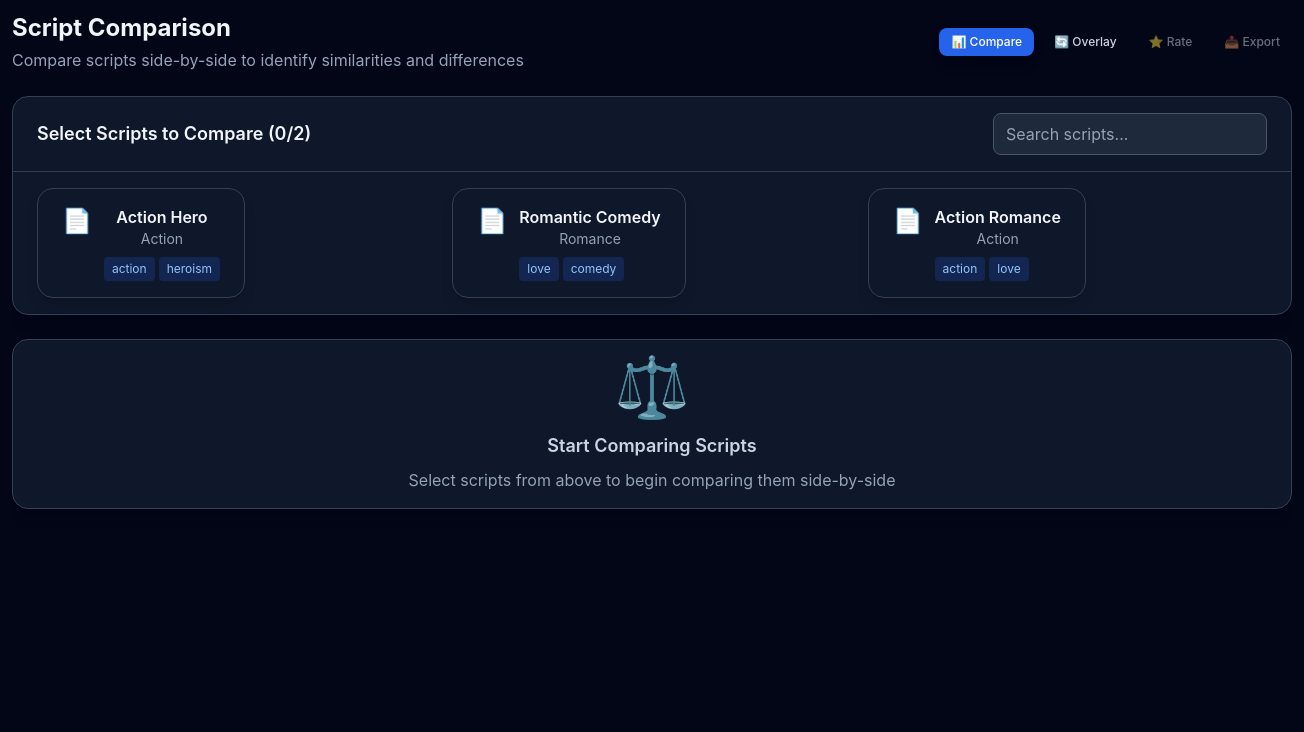
Scenario: ScriptComparison › filters scripts based on search query
Type "Action" into the field with placeholder "Search scripts..." at (1130, 134), box [993,113,1267,155]
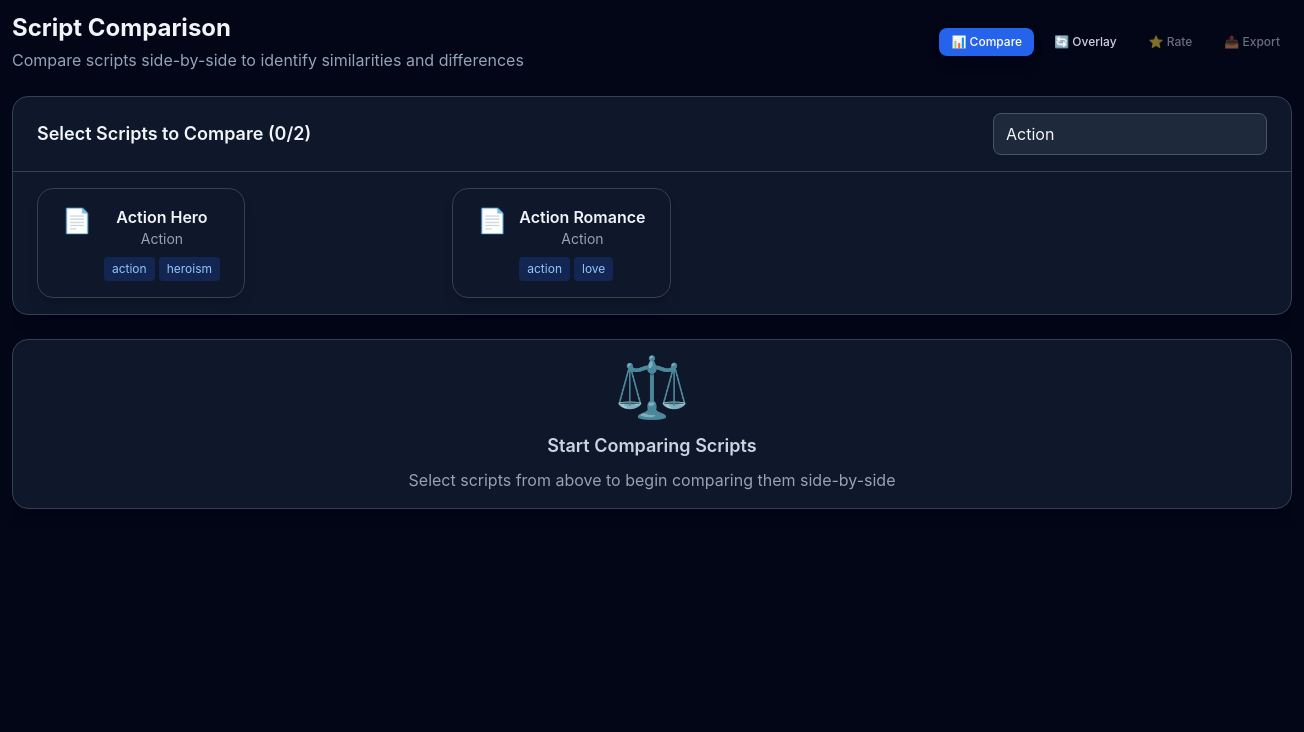
Check: the heading "Action Hero" is shown, box [116,207,208,227]
Check: the button "Romantic Comedy" is gone
